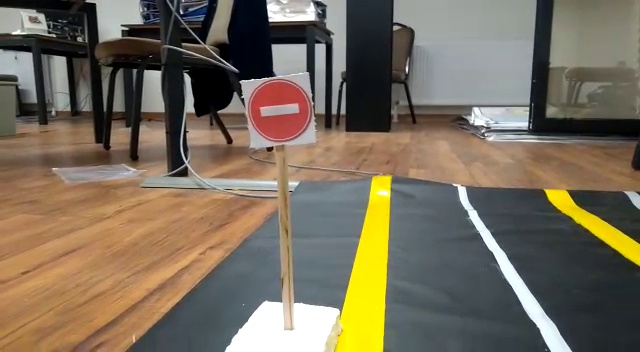girisi_olmayan_yol: (244, 79, 316, 144)
